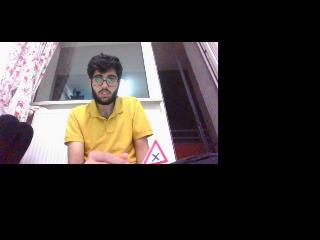intersection: (146, 146, 166, 164)
